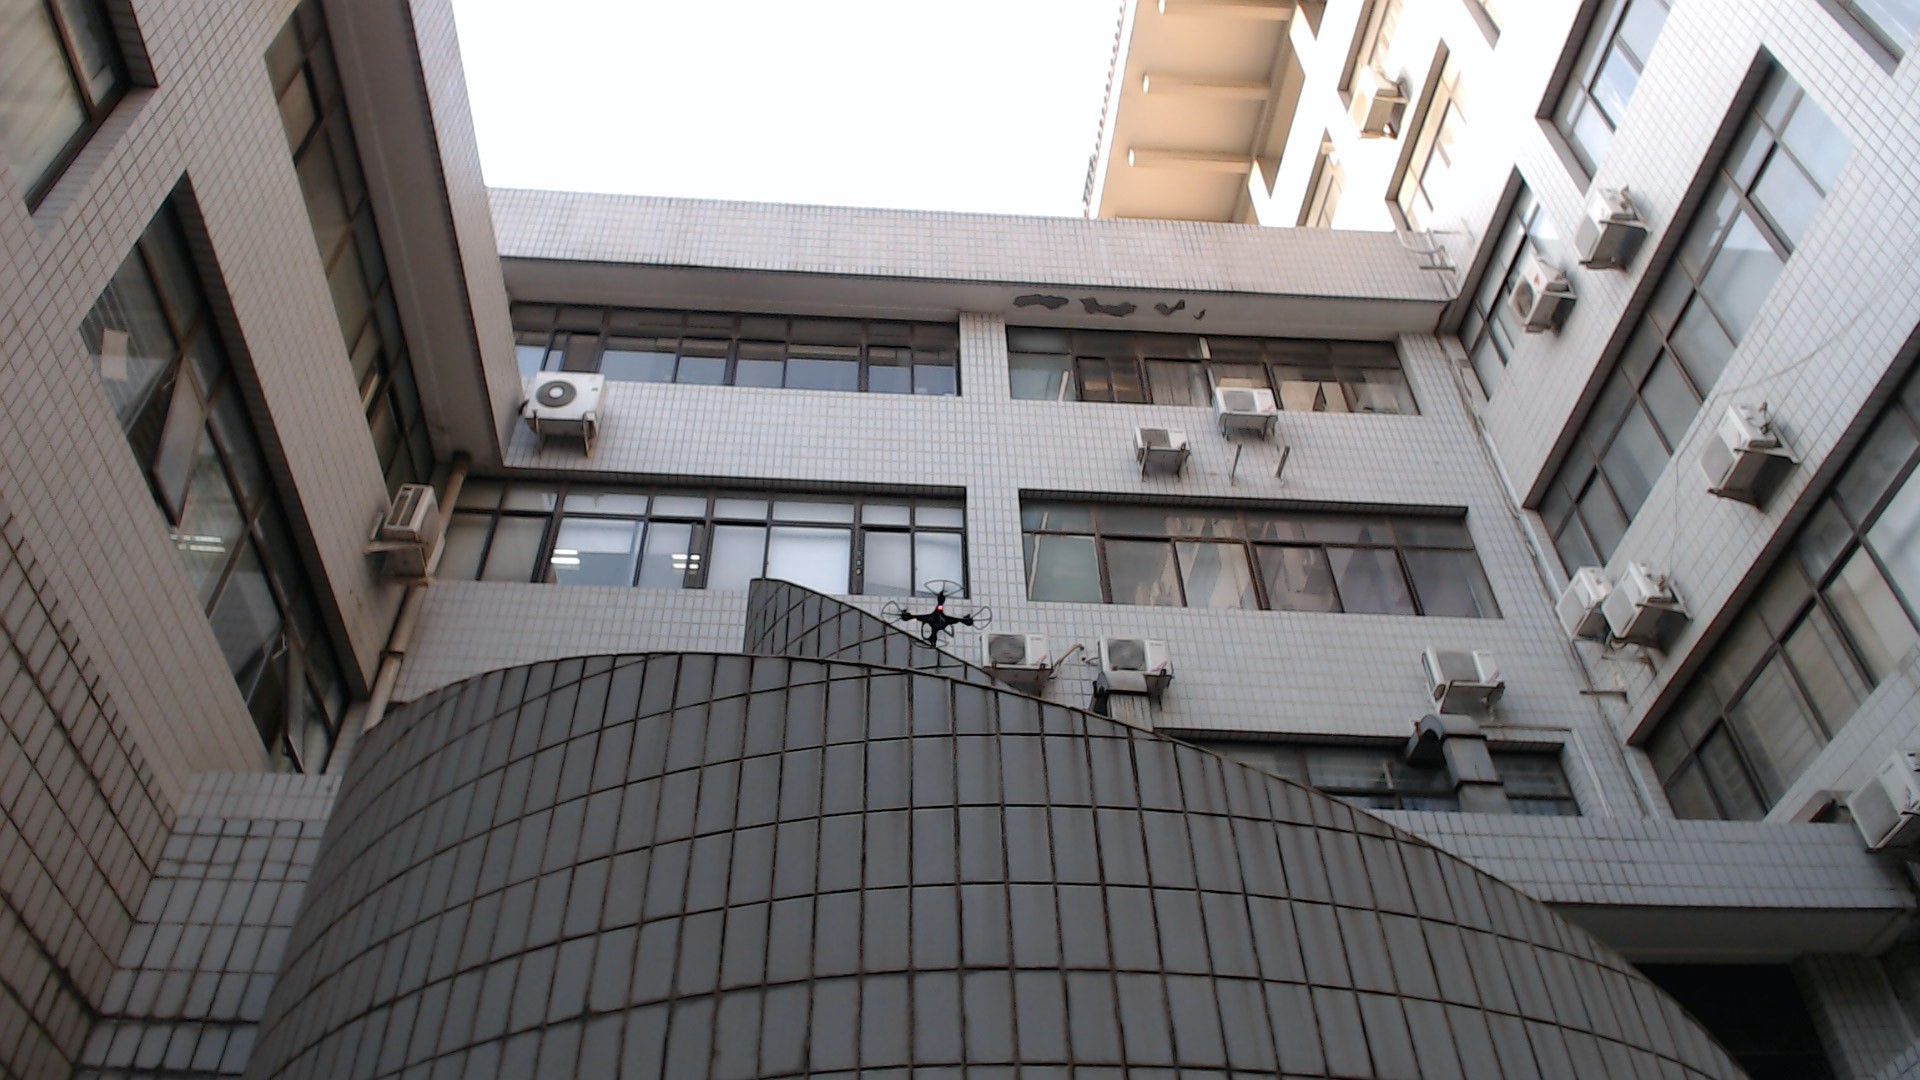drone: (865, 564, 1004, 671)
